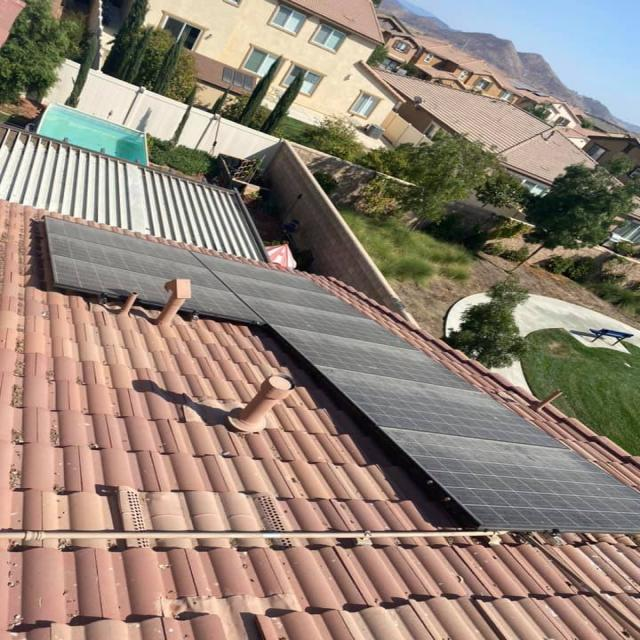dust-solar-panel: (48, 214, 640, 533)
